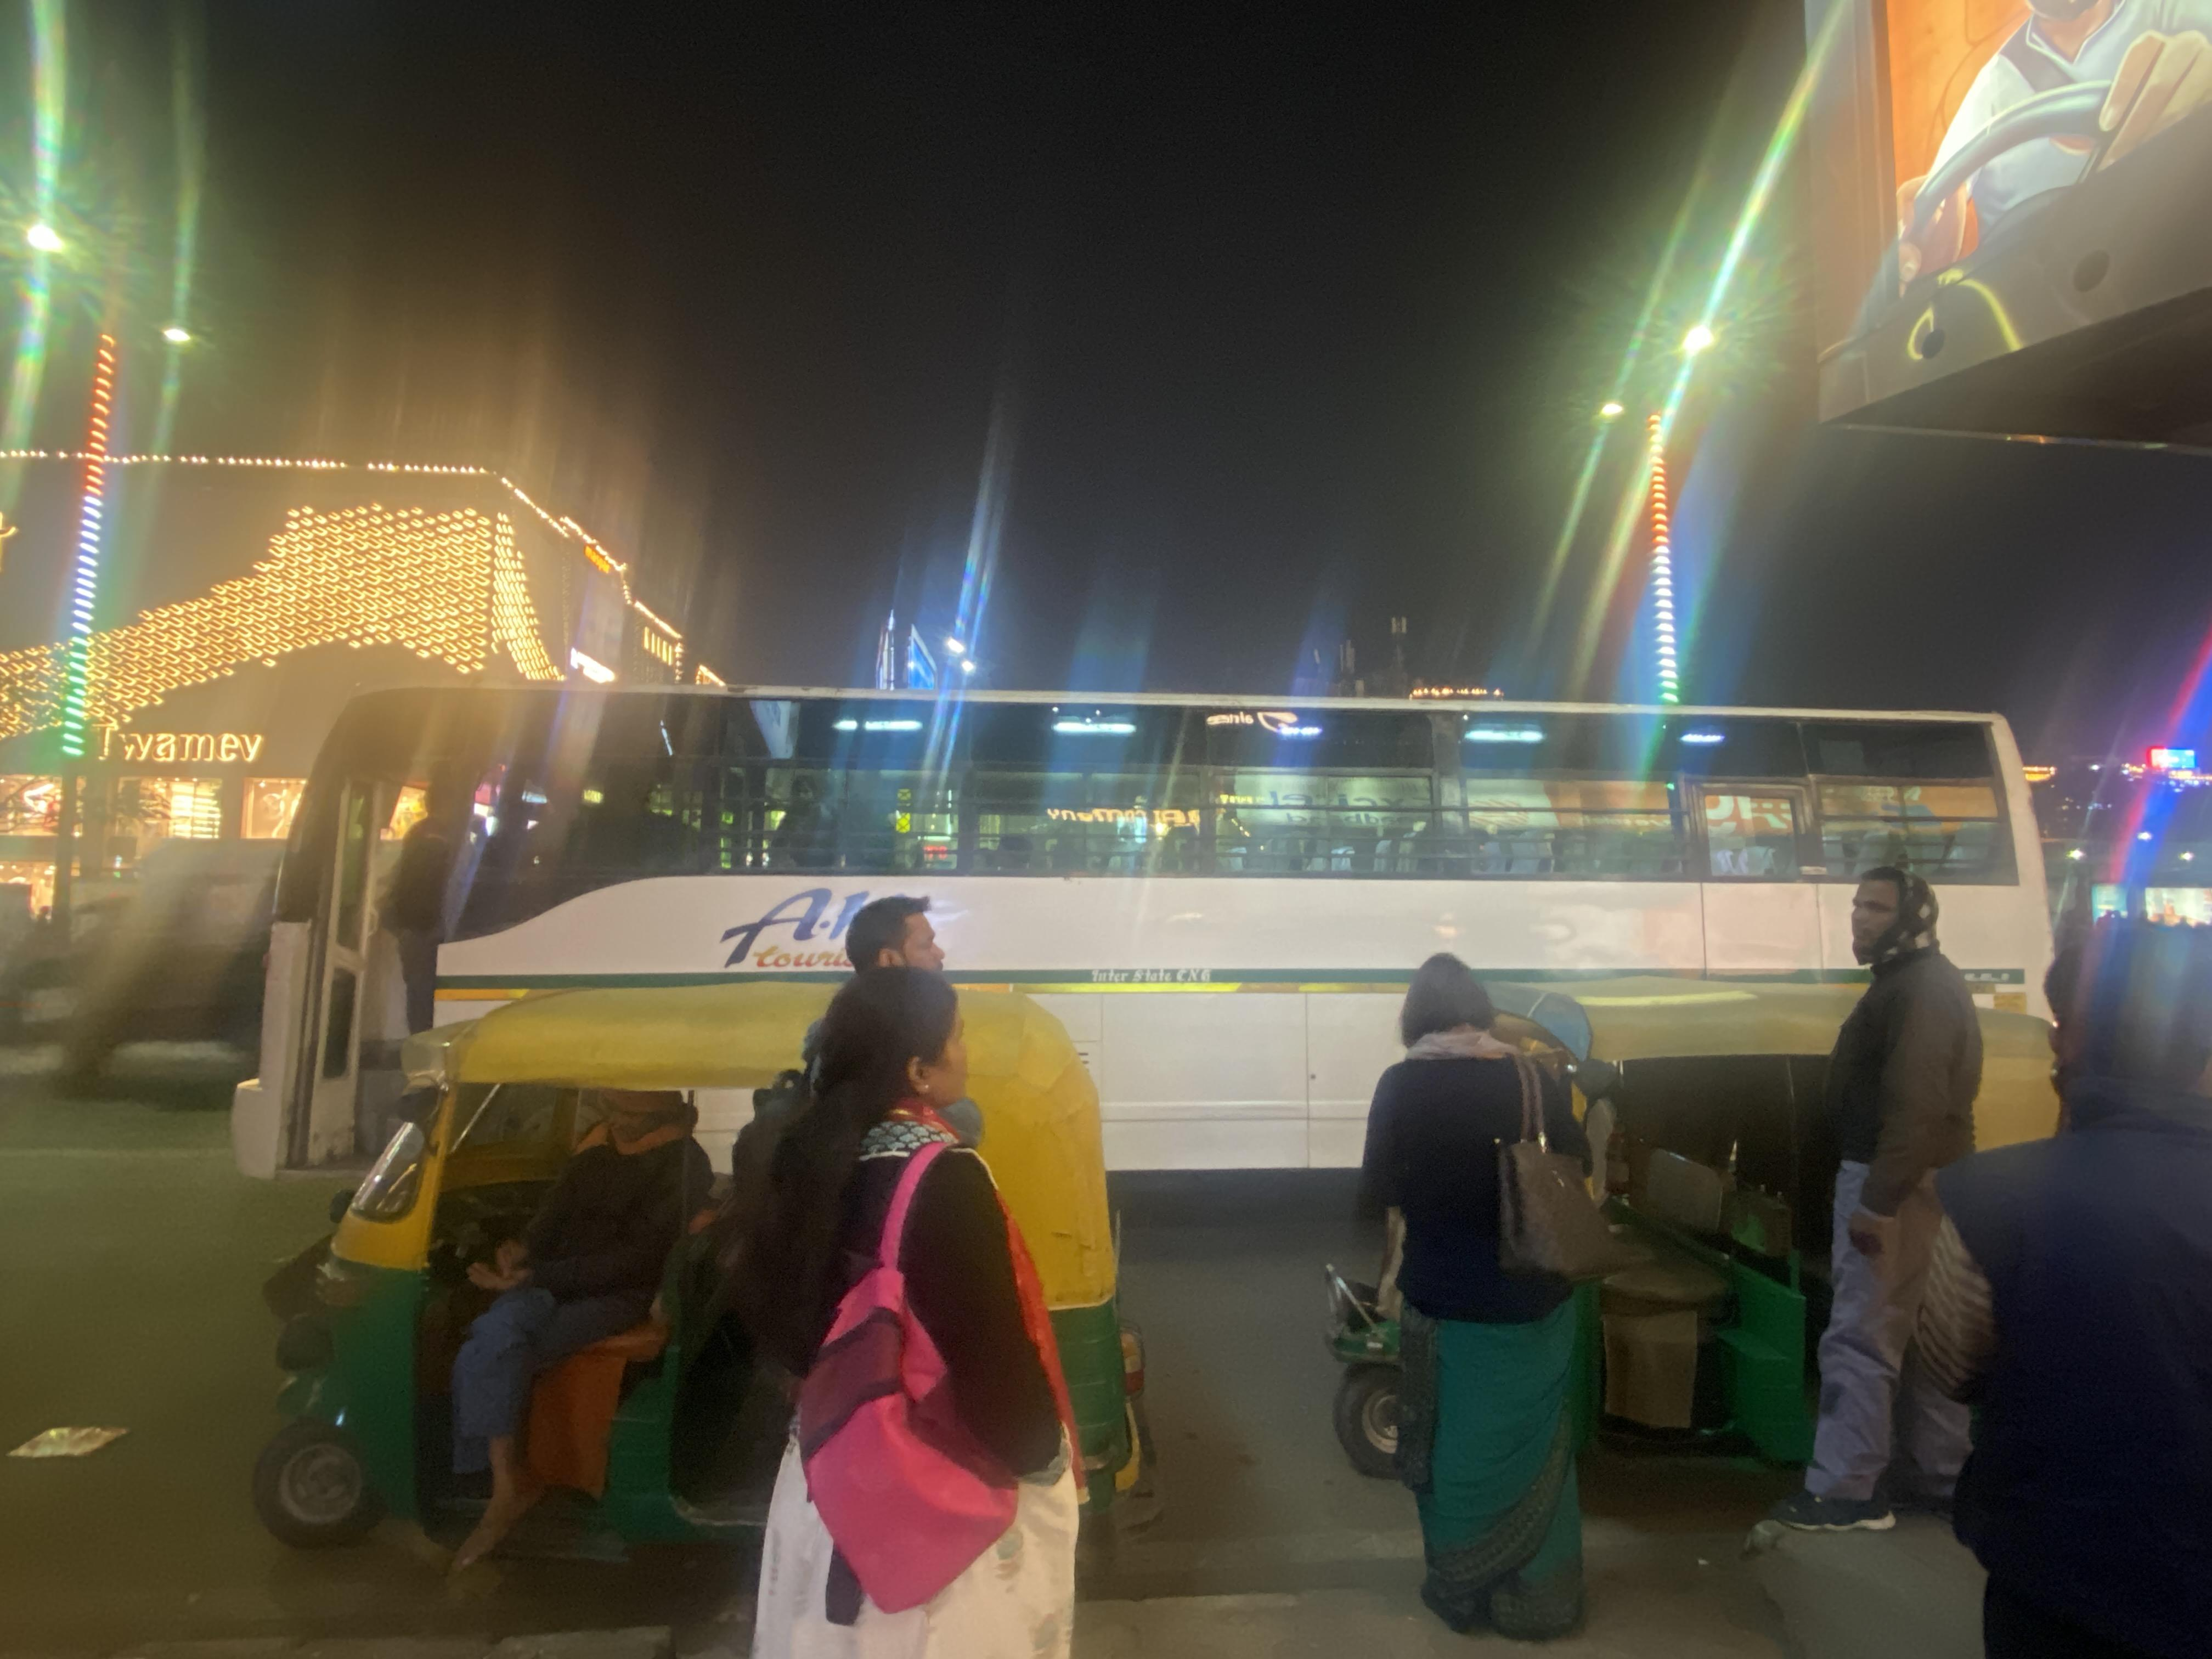Bus: (192, 636, 2113, 1213)
